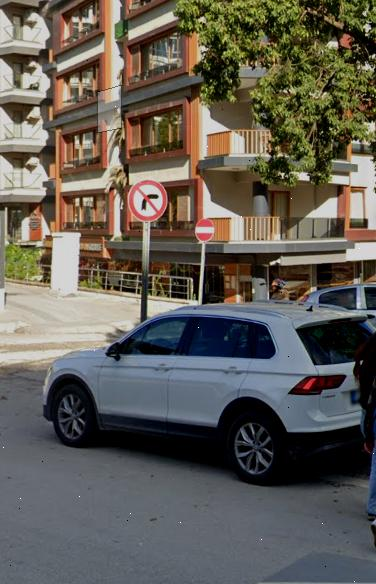rightturnsareforbidden: (129, 180, 166, 221)
